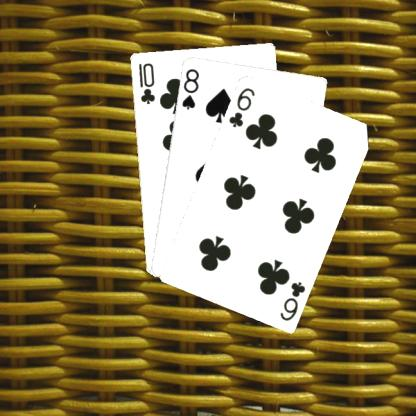10C: (135, 60, 156, 105)
6C: (225, 84, 256, 128), (277, 278, 307, 322)
8S: (178, 66, 200, 111)
